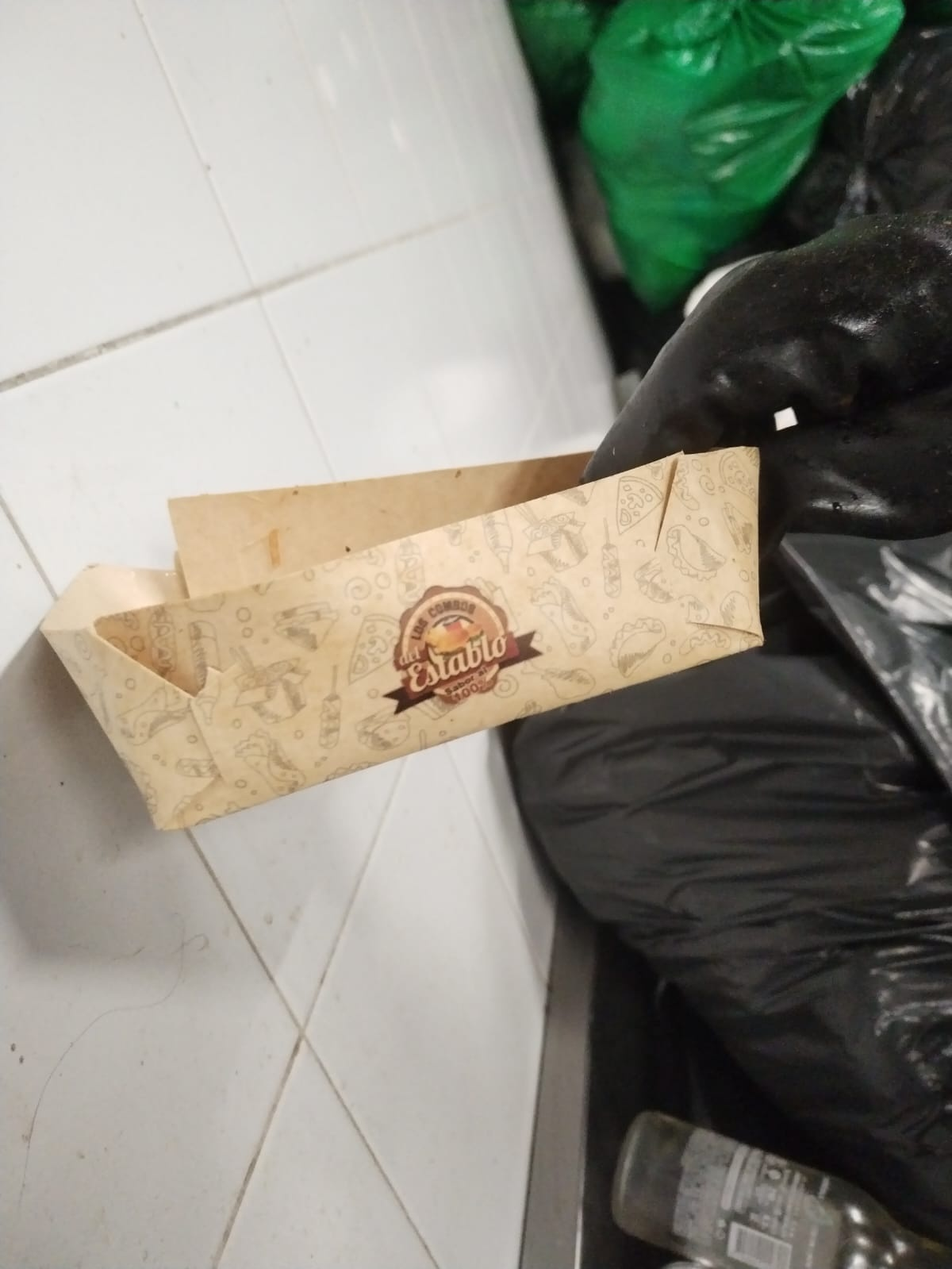Carton: (37, 448, 763, 832)
